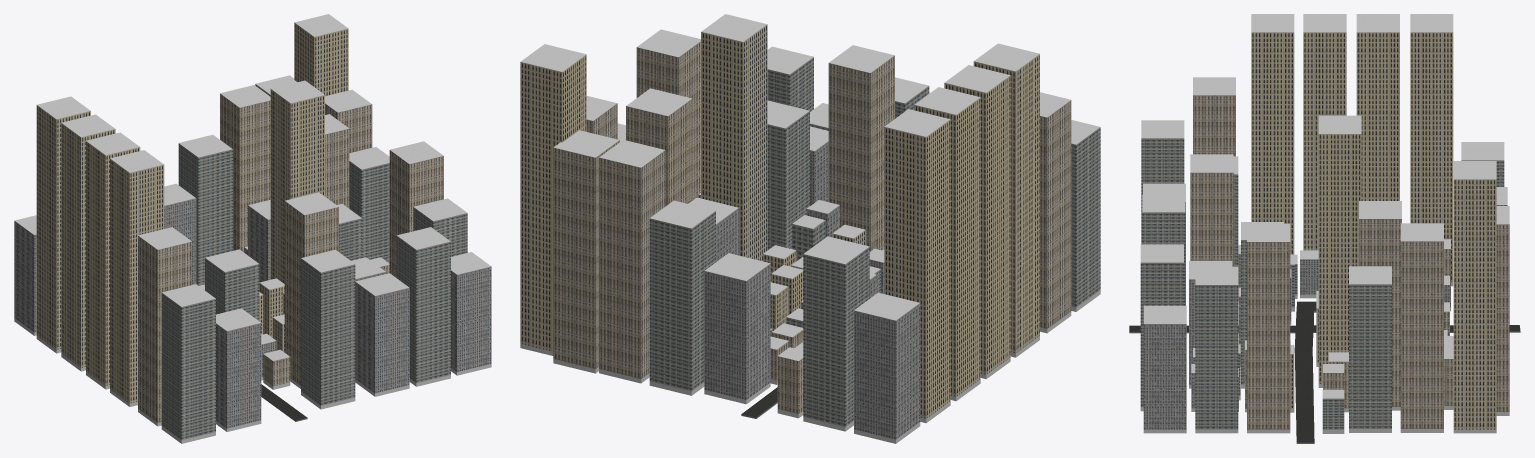
Rendered from city_tex.dae.
3 views of the same model, side by side, from view 1: azimuth 30°, elevation 25°; view 2: azimuth 150°, elevation 25°; view 3: azimuth 270°, elevation 25° (orthographic). The views are drawn at different scales.
Parts seen in each view (by area): view 1: Building_A.004, Building_C.011, Building_C.004, Building_A.003, Building_C.006, Building_A.007, Building_A.006, Building_A.005, Building_B.004, Building_D.005, Building_B.008, Building_C.010 (+18 smaller); view 2: Building_A.007, Building_A.003, Building_A.008, Building_B.008, Building_B.009, Building_C.010, Building_B.007, Building_C.009, Building_A.006, Building_A.005, Building_A.004, Building_D.009 (+17 smaller); view 3: Building_A.008, Building_A.007, Building_A.003, Building_A.004, Building_B.005, Building_B.006, Building_A.006, Building_C.007, Building_C.008, Building_A.005, Building_D.006, Building_B.007 (+17 smaller).
Boxes of the visible parts, box(x1,y1,x2,y2) form: Building_A.004: box(110, 150, 164, 406); Building_C.011: box(301, 249, 355, 409); Building_C.004: box(161, 284, 215, 443); Building_A.003: box(270, 80, 324, 283); Building_C.006: box(396, 227, 450, 386); Building_A.007: box(36, 96, 90, 353); Building_A.006: box(61, 114, 115, 371); Building_A.005: box(86, 132, 140, 389); Building_B.004: box(138, 227, 192, 426); Building_D.005: box(355, 273, 409, 396); Building_B.008: box(220, 85, 270, 252); Building_C.010: box(178, 134, 232, 285); Building_A.007: box(884, 109, 950, 423); Building_A.003: box(701, 14, 767, 261); Building_A.008: box(520, 44, 586, 355); Building_B.008: box(599, 139, 665, 383); Building_B.009: box(553, 130, 619, 373); Building_C.010: box(649, 200, 715, 395); Building_B.007: box(828, 45, 894, 251); Building_C.009: box(803, 236, 869, 431); Building_A.006: box(914, 87, 980, 401); Building_A.005: box(944, 65, 1010, 379); Building_A.004: box(973, 43, 1039, 357); Building_D.009: box(704, 253, 770, 404); Building_A.008: box(1453, 161, 1496, 433); Building_A.007: box(1410, 14, 1453, 286); Building_A.003: box(1318, 115, 1361, 387); Building_A.004: box(1251, 14, 1294, 254); Building_B.005: box(1247, 223, 1290, 433); Building_B.006: box(1400, 223, 1443, 432); Building_A.006: box(1356, 14, 1399, 200); Building_C.007: box(1195, 266, 1238, 433); Building_C.008: box(1349, 266, 1391, 432); Building_A.005: box(1303, 14, 1346, 250); Building_D.006: box(1143, 305, 1186, 433); Building_B.007: box(1190, 154, 1233, 266).
Size of what is drawn, in the model's own units: 384 by 363 by 261.
7 materials, 7 textured.
